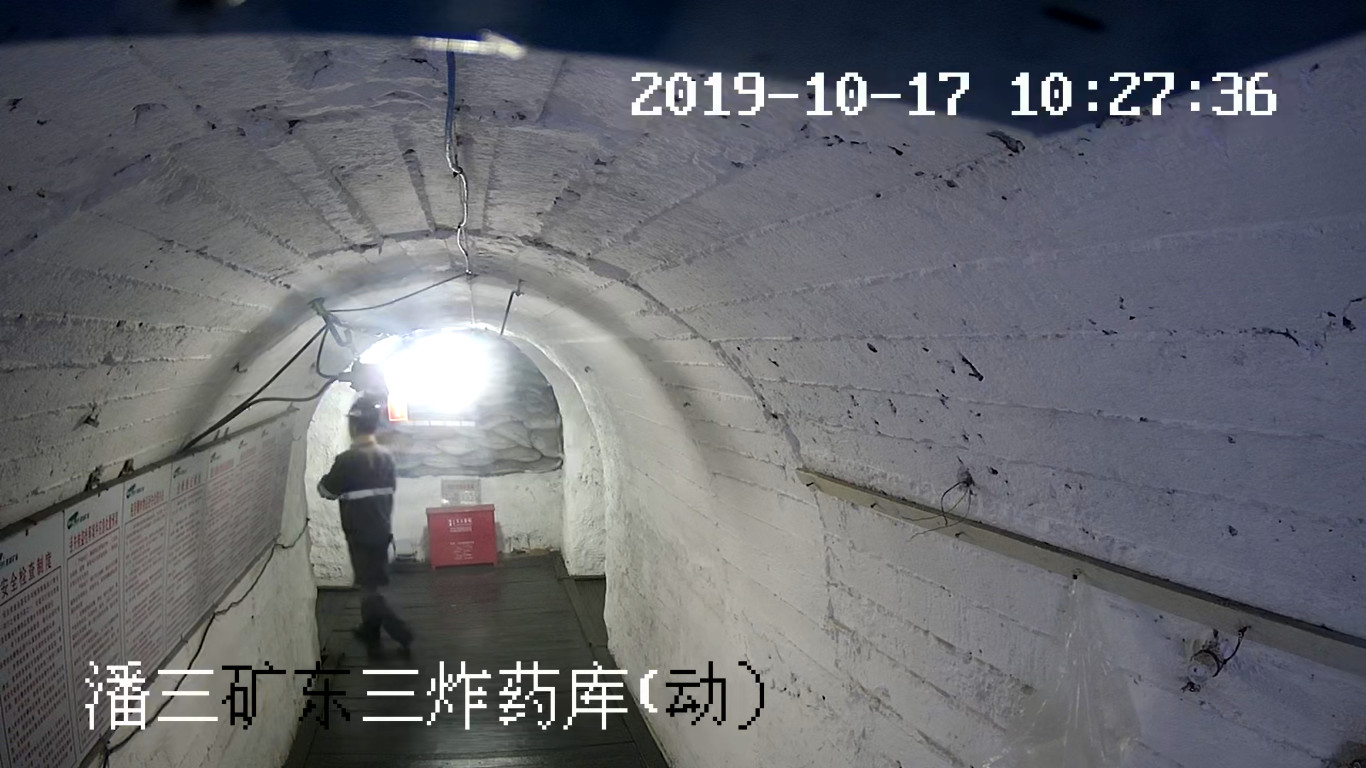helmet: (346, 397, 379, 422)
